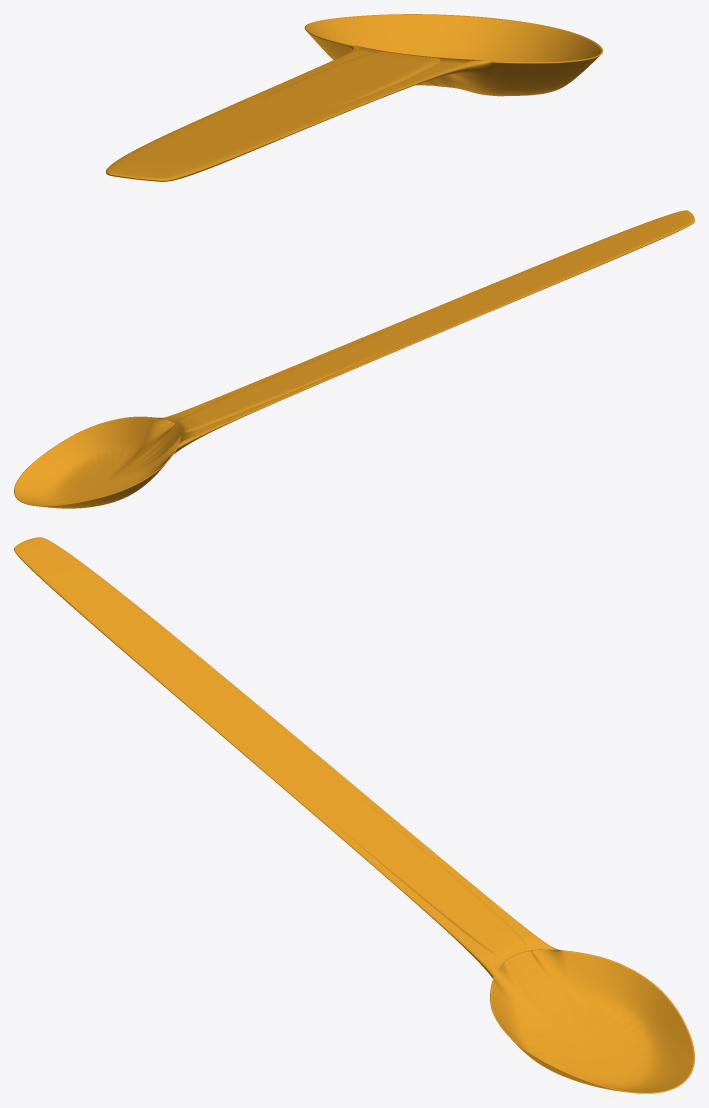
The model's file is spoon1.glb.
3 views of the same model, one above another, from view 1: azimuth 30°, elevation 25°; view 2: azimuth 150°, elevation 25°; view 3: azimuth 270°, elevation 25° (orthographic). The views are drawn at different scales.
Parts seen in each view (by area): view 1: Circle.003; view 2: Circle.003; view 3: Circle.003.
Part boxes in pixels (x1=…): Circle.003: x1=106, y1=14, x2=603, y2=181; Circle.003: x1=14, y1=210, x2=694, y2=508; Circle.003: x1=14, y1=537, x2=694, y2=1093.
Size of the model in its own units: 1.08 by 0.4884 by 1.07.
